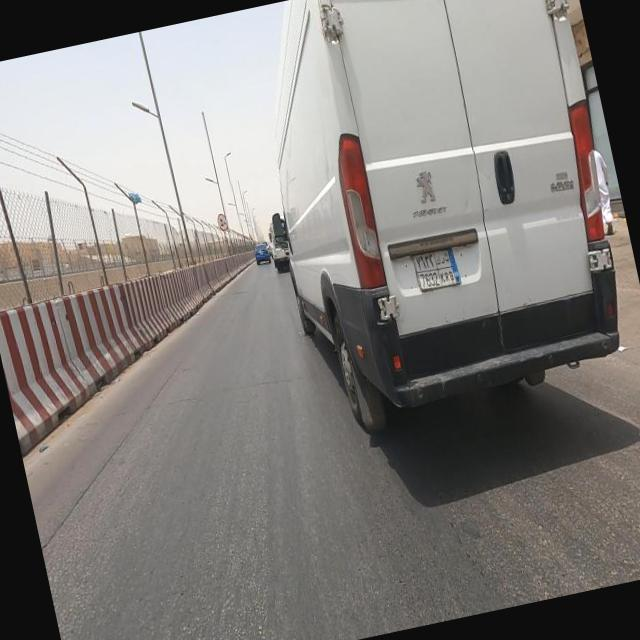debris: (116, 147, 166, 293)
